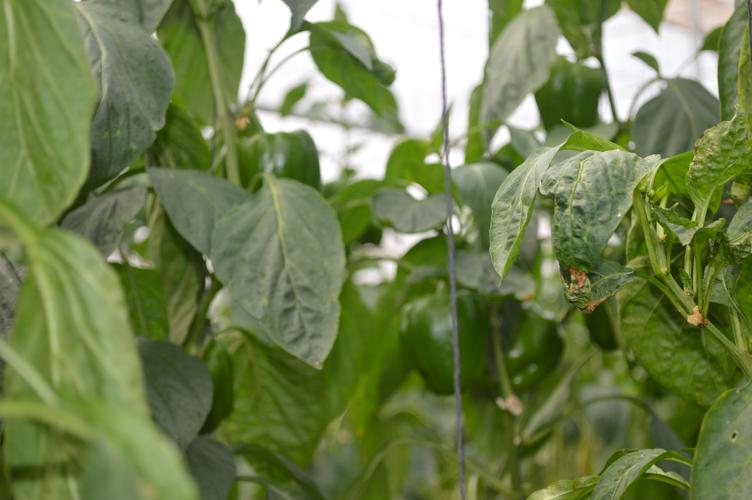BellPepper: (396, 285, 482, 393), (226, 129, 321, 193), (529, 56, 603, 130)
